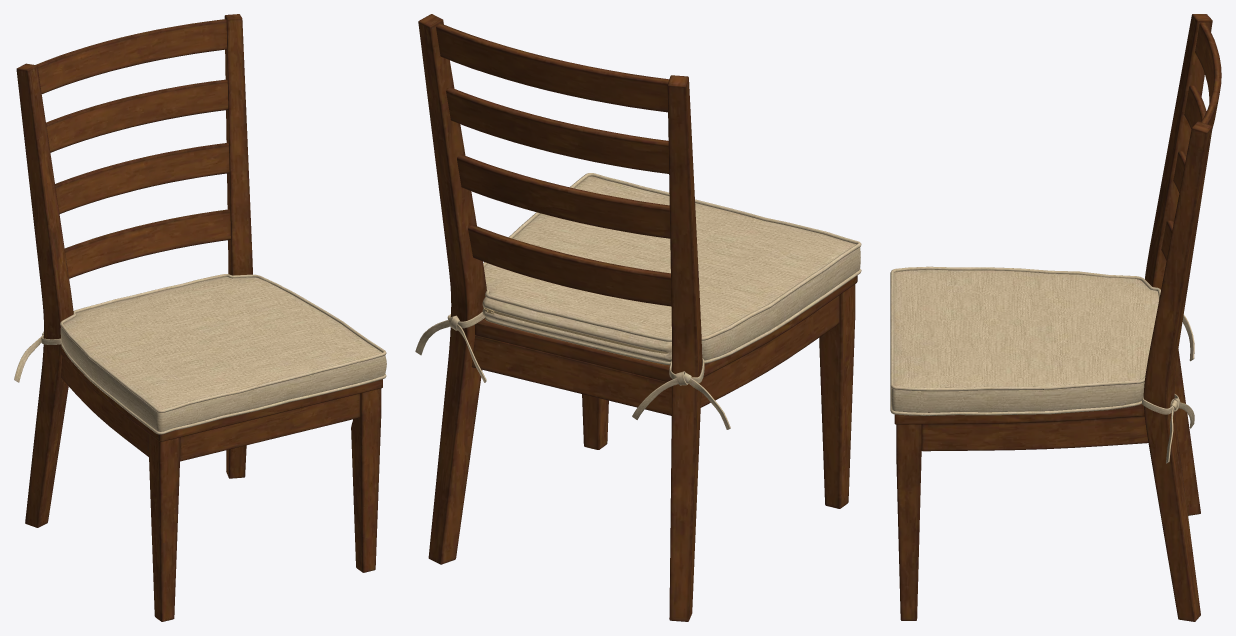
Rendered from B075YMW6W9.glb.
3 views of the same model, side by side, from view 1: azimuth 30°, elevation 25°; view 2: azimuth 150°, elevation 25°; view 3: azimuth 270°, elevation 25° (orthographic). The views are drawn at different scales.
Visible parts, largest first — view 1: RootNode; view 2: RootNode; view 3: RootNode.
Part boxes in pixels (box(x1,y1,x2,y2)): RootNode: box(14, 14, 386, 621); RootNode: box(415, 14, 861, 621); RootNode: box(890, 14, 1221, 621).
Size of the model in its own units: 0.593 by 0.9789 by 0.5948.
1 material, 1 textured.
